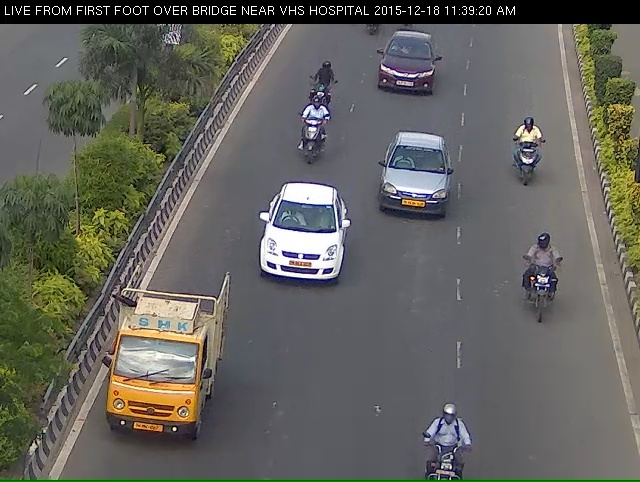Auto: (92, 309, 223, 471)
Car: (258, 204, 342, 316), (370, 147, 458, 238), (371, 45, 442, 105)
Person: (521, 246, 571, 347), (512, 127, 552, 207), (308, 76, 340, 135), (296, 110, 323, 174)
